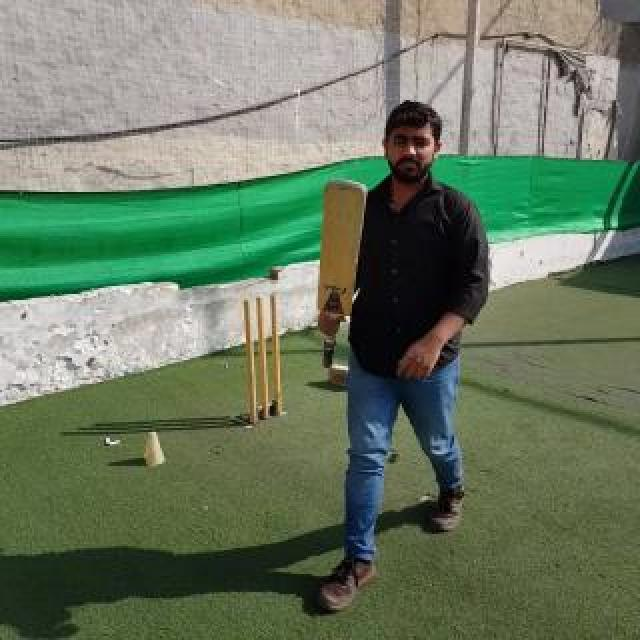bat: (316, 180, 368, 368)
